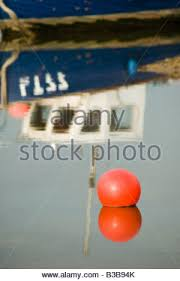buoy: (98, 169, 141, 210)
